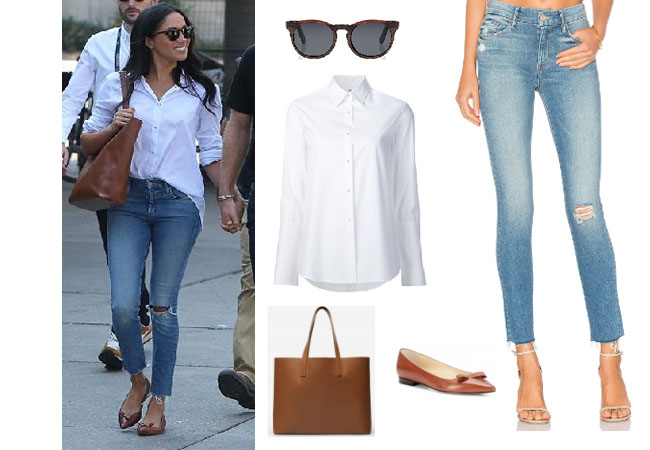jeans: (472, 6, 630, 343), (102, 174, 195, 400)
sunglasses: (283, 15, 405, 56), (147, 24, 203, 43)
